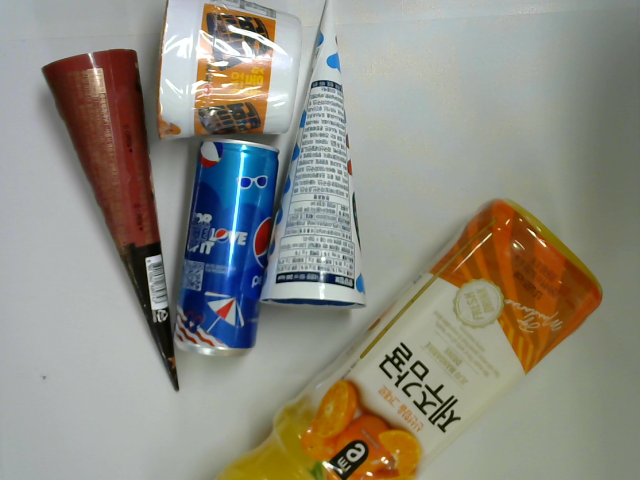Bravo_Cone_(Banila)_CVS: (257, 1, 374, 310)
Jeju_Tangerine_1.5L: (214, 194, 609, 480)
Pepsi_Cola_Can_250ml: (175, 141, 282, 361)
Udongmini: (155, 1, 309, 144)
World_Cone_Choco: (41, 46, 181, 395)
